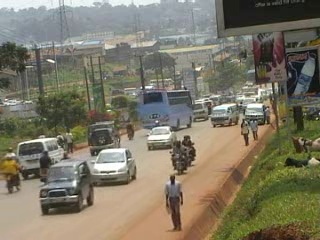Car: (37, 157, 96, 212), (89, 146, 139, 184), (84, 128, 121, 159), (145, 123, 178, 151)
Motorcycle: (1, 152, 24, 193), (169, 137, 188, 175), (36, 148, 54, 184), (179, 133, 197, 167), (124, 118, 135, 142)
